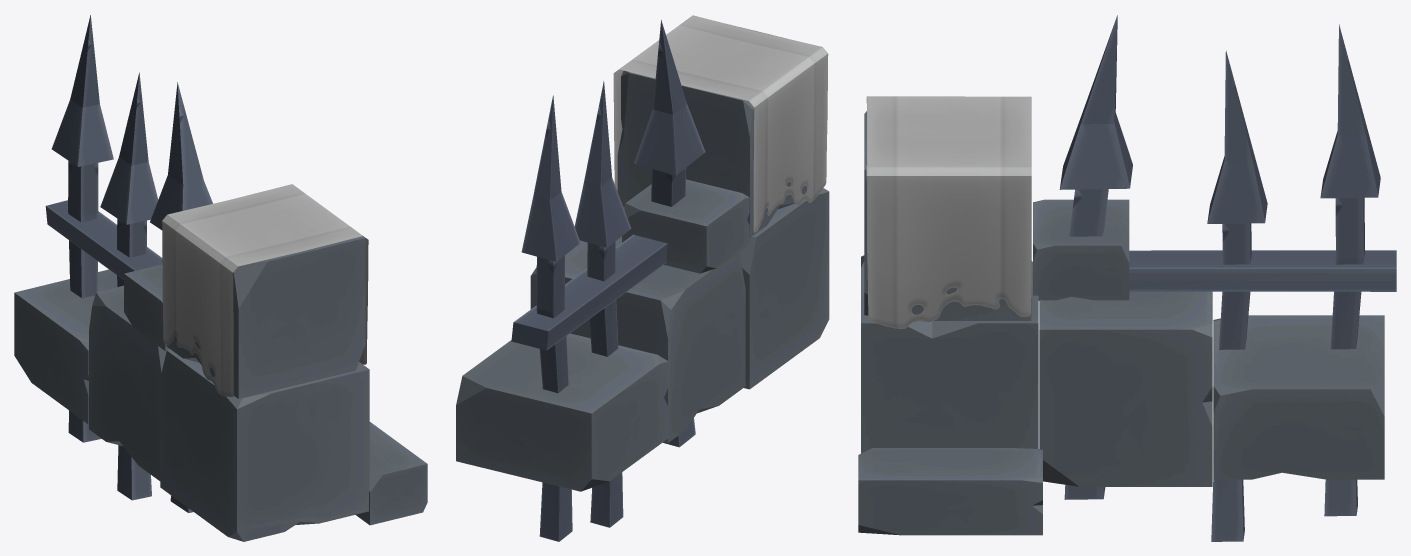
File: Wall1B-007_40_23_4800.fbx
The picture shows the model from 3 angles, left to right: view 1: azimuth 30°, elevation 25°; view 2: azimuth 150°, elevation 25°; view 3: azimuth 270°, elevation 25°; orthographic projection. The views are drawn at different scales.
Parts seen in each view (by area): view 1: 1B_Wall1, Plane_002 (2), 2B_Fence1_002 (2), 2B_Fence1_002 (1), 2B_Fence1_001 (1), 2B_Fence1_003 (1); view 2: 1B_Wall1, Plane_002 (2), 2B_Fence1_002 (2), 2B_Fence1_002 (1), 2B_Fence1_001 (1), 2B_Fence1_003 (1); view 3: 1B_Wall1, Plane_002 (2), 2B_Fence1_003 (1), 2B_Fence1_002 (1), 2B_Fence1_002 (2), 2B_Fence1_001 (1).
Part boxes in pixels (x1=…): 1B_Wall1: x1=14, y1=236, x2=427, y2=541; Plane_002 (2): x1=162, y1=184, x2=368, y2=397; 2B_Fence1_002 (2): x1=51, y1=15, x2=113, y2=442; 2B_Fence1_002 (1): x1=100, y1=72, x2=158, y2=500; 2B_Fence1_001 (1): x1=150, y1=82, x2=212, y2=512; 2B_Fence1_003 (1): x1=45, y1=200, x2=162, y2=279; 1B_Wall1: x1=456, y1=27, x2=829, y2=491; Plane_002 (2): x1=613, y1=15, x2=828, y2=232; 2B_Fence1_002 (2): x1=521, y1=95, x2=580, y2=541; 2B_Fence1_002 (1): x1=574, y1=81, x2=631, y2=527; 2B_Fence1_001 (1): x1=634, y1=20, x2=705, y2=447; 2B_Fence1_003 (1): x1=511, y1=234, x2=667, y2=350; 1B_Wall1: x1=858, y1=111, x2=1384, y2=535; Plane_002 (2): x1=866, y1=96, x2=1031, y2=328; 2B_Fence1_003 (1): x1=1129, y1=250, x2=1396, y2=291; 2B_Fence1_002 (1): x1=1207, y1=50, x2=1267, y2=541; 2B_Fence1_002 (2): x1=1320, y1=24, x2=1380, y2=516; 2B_Fence1_001 (1): x1=1059, y1=15, x2=1132, y2=499.
Bounding box in the file's own units: 1.45 × 3.24 × 3.04.
